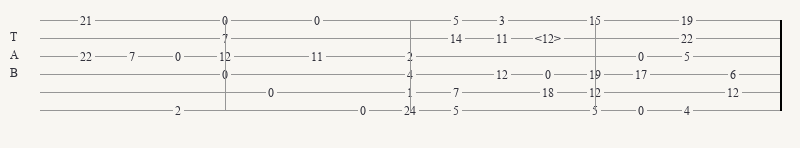0: (175, 50, 185, 63), (222, 14, 232, 27), (222, 68, 232, 81), (268, 86, 278, 99), (314, 14, 324, 27), (360, 104, 370, 117), (545, 68, 555, 81), (638, 104, 648, 117), (638, 50, 648, 63)
1: (407, 86, 417, 99)
11: (311, 50, 327, 63), (496, 32, 512, 45)
12: (219, 50, 235, 63), (496, 68, 512, 81), (589, 86, 605, 99), (727, 86, 743, 99)
14: (450, 32, 466, 45)
15: (589, 14, 605, 27)
17: (635, 68, 651, 81)
18: (542, 86, 558, 99)
19: (589, 68, 605, 81), (681, 14, 697, 27)
2: (175, 104, 185, 117), (407, 50, 417, 63)
21: (80, 14, 96, 27)
22: (80, 50, 96, 63), (681, 32, 697, 45)
24: (404, 104, 420, 117)
3: (499, 14, 509, 27)
4: (407, 68, 417, 81), (684, 104, 694, 117)
5: (453, 14, 463, 27), (453, 104, 463, 117), (592, 104, 602, 117), (684, 50, 694, 63)
6: (730, 68, 740, 81)
7: (129, 50, 139, 63), (222, 32, 232, 45), (453, 86, 463, 99)
harmonic: (535, 32, 565, 45)
